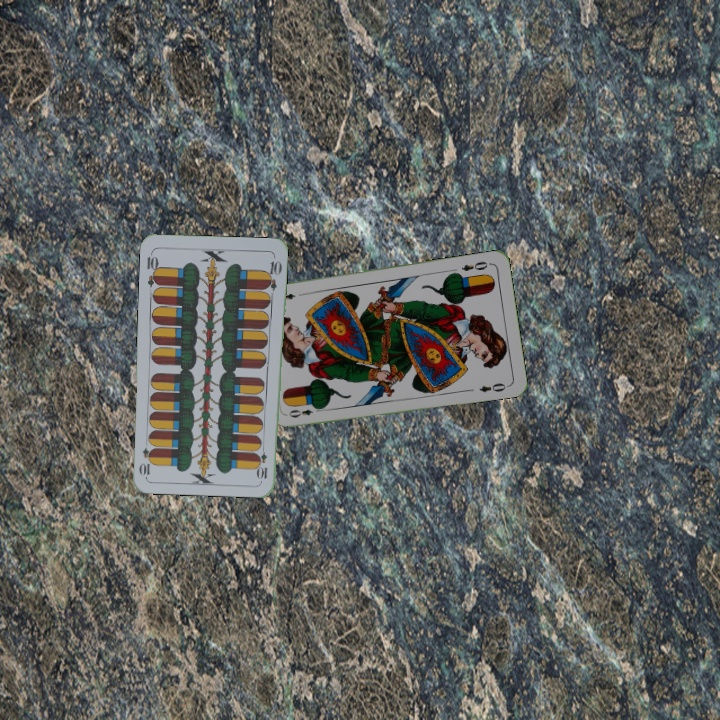E10: (143, 248, 162, 289), (256, 441, 270, 481)
EO: (285, 402, 325, 420), (458, 257, 493, 274)
